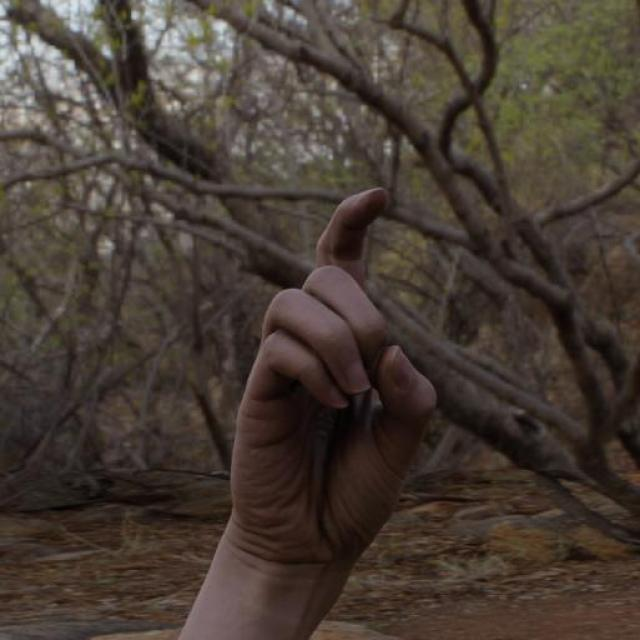X: (212, 186, 438, 576)
